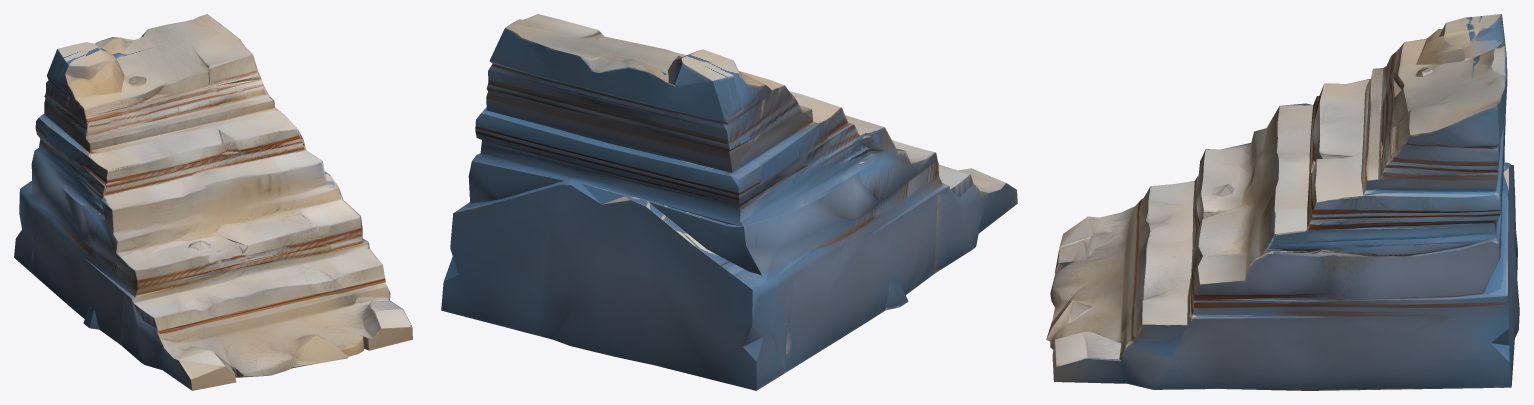
The model's file is SM_StoneSteps001.FBX.
3 views of the same model, side by side, from view 1: azimuth 30°, elevation 25°; view 2: azimuth 150°, elevation 25°; view 3: azimuth 270°, elevation 25° (orthographic). The views are drawn at different scales.
Parts seen in each view (by area): view 1: SM_StoneSteps001; view 2: SM_StoneSteps001; view 3: SM_StoneSteps001.
Part boxes in pixels (box(x1,y1,x2,y2)): SM_StoneSteps001: box(14, 14, 412, 390); SM_StoneSteps001: box(441, 14, 1017, 390); SM_StoneSteps001: box(1046, 14, 1519, 390).
Size of the model in its own units: 181 by 146 by 239.
